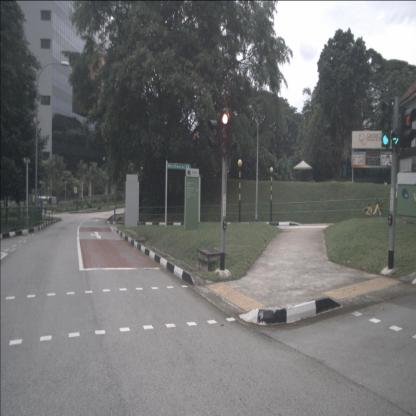vehicle-bicycle: (362, 196, 385, 219)
